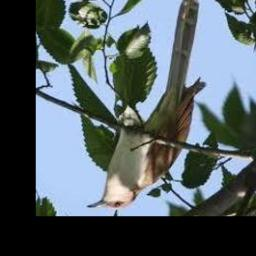Cuckoo: (86, 0, 206, 209)
